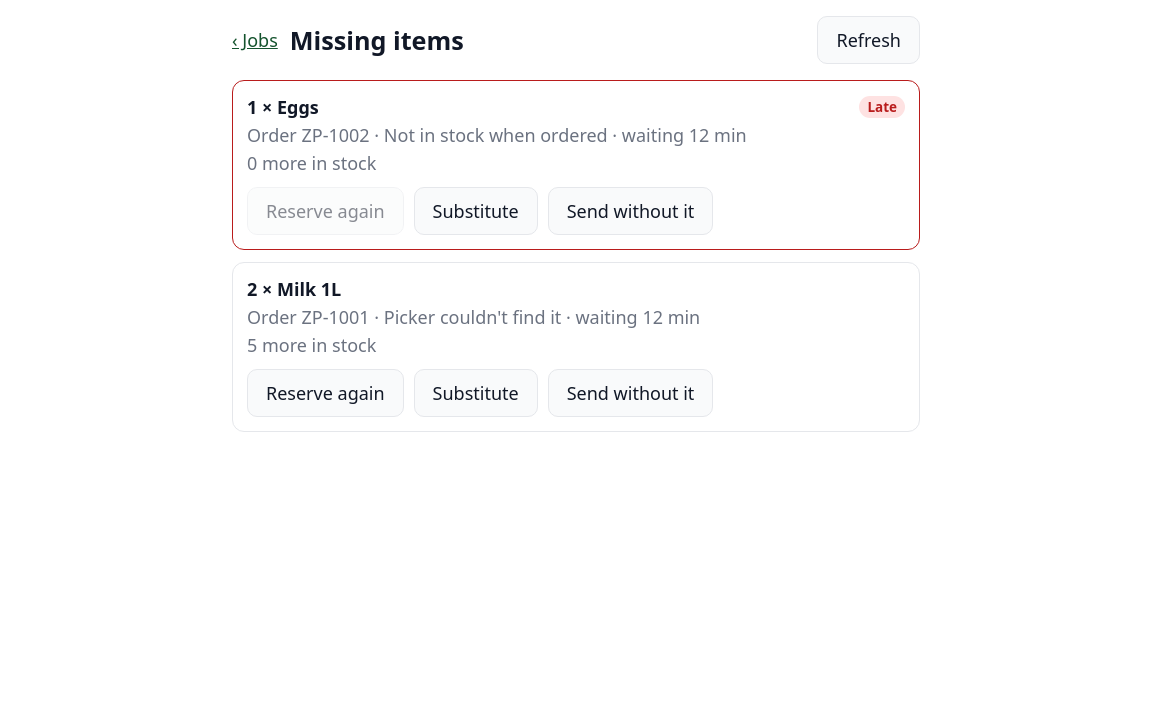
Test: missing items screen › sends the order without the item, using the reason the manager typed
The width and height of the screenshot is (1152, 720).
Click the button "Send without it" below "Eggs". click: (631, 211)
box: x1=548 y1=187 x2=713 y2=235
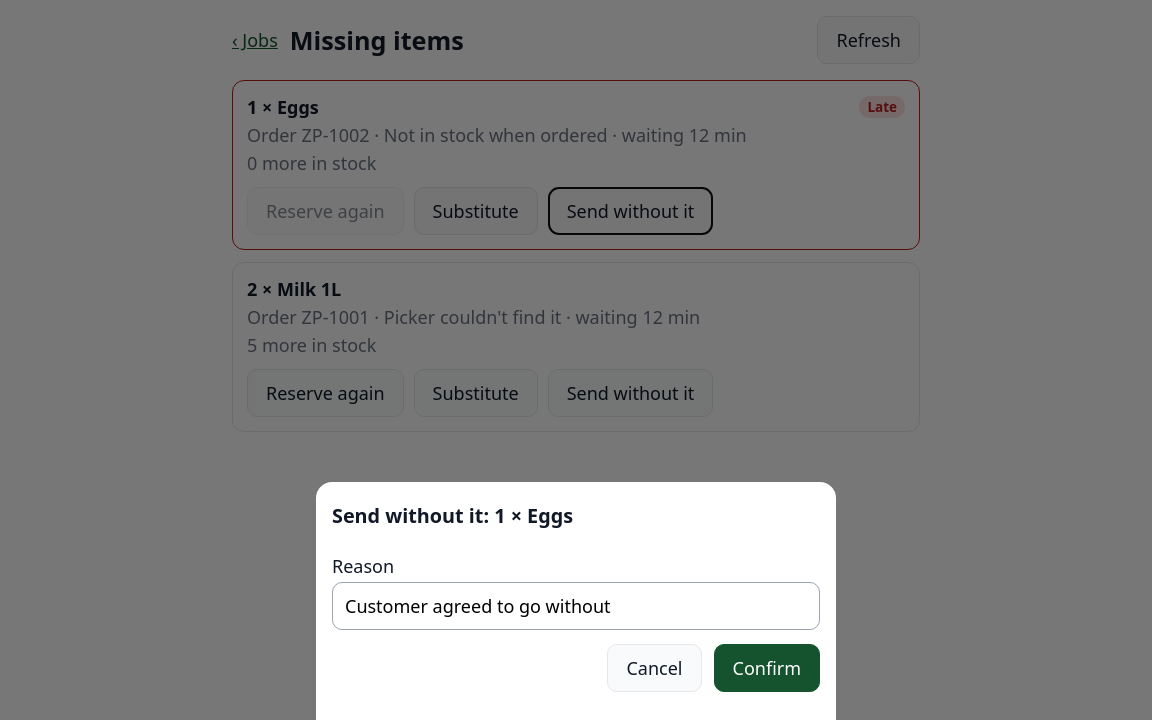
Replace the text in the field labelled "Reason" with "Customer cancelled the eggs". click: (576, 606)
box: x1=332 y1=582 x2=820 y2=630
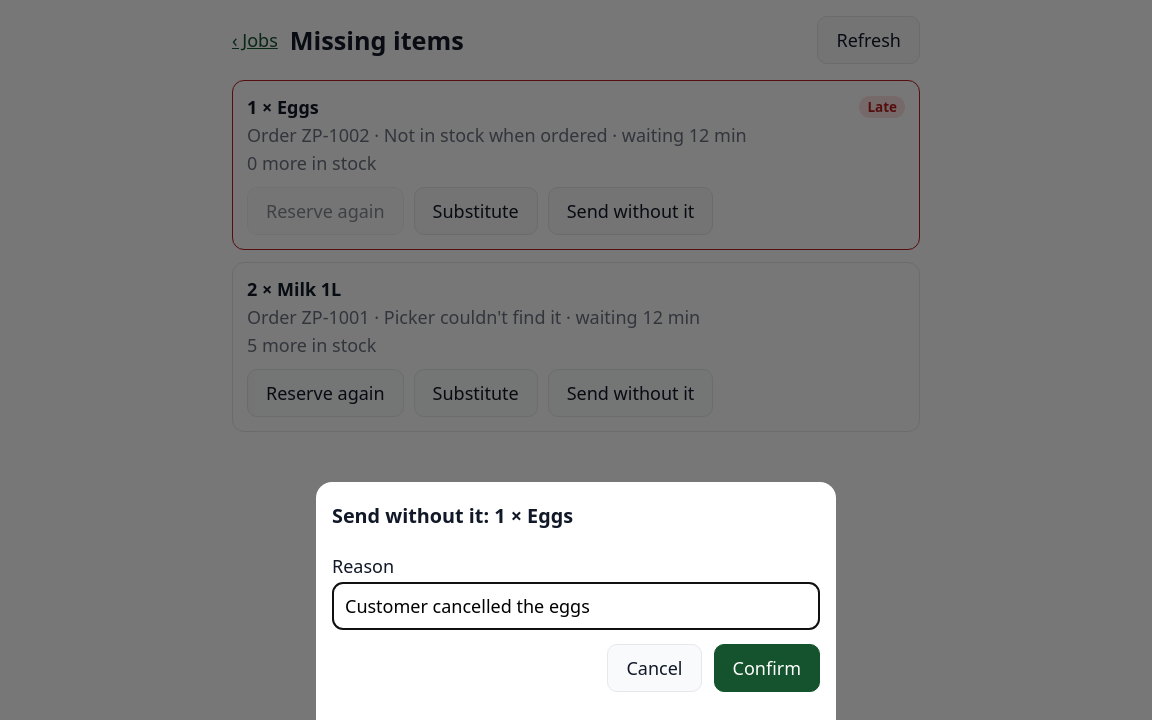
Click the button "Confirm". click: (767, 668)
box: x1=714 y1=644 x2=820 y2=692
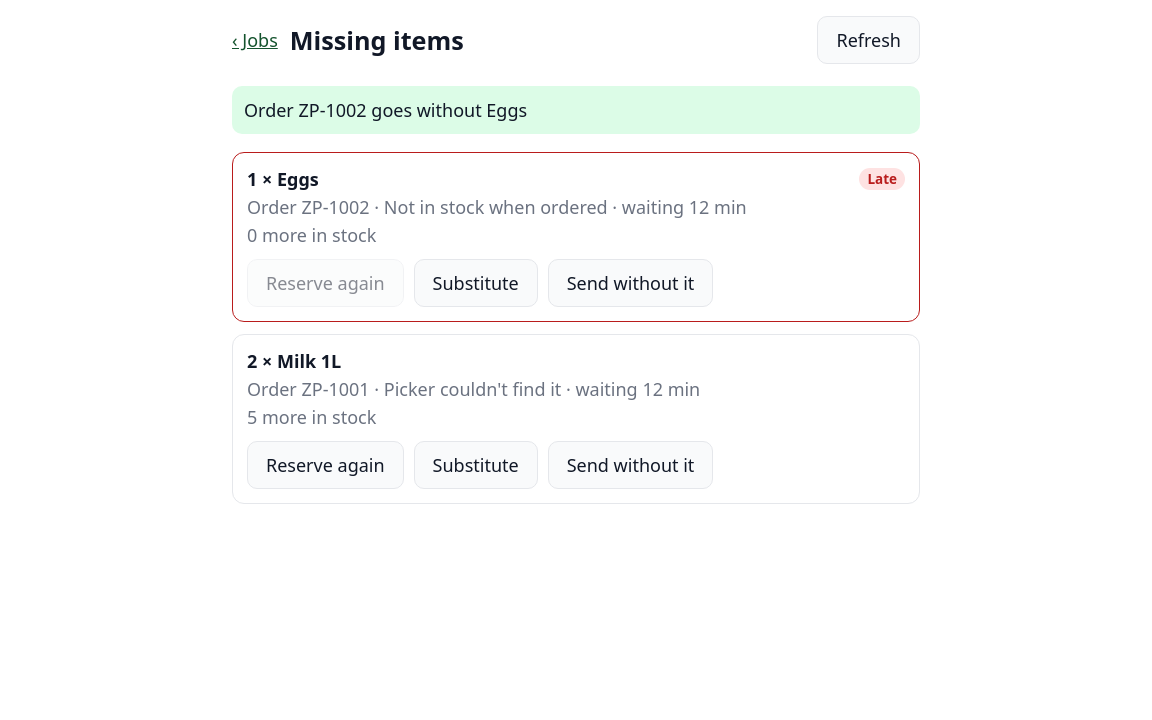
Expected: the message reads "Order ZP-1002 goes without Eggs", x1=244 y1=98 x2=527 y2=122
